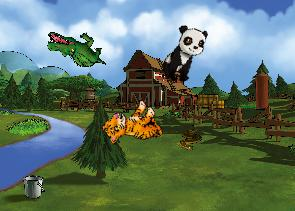crocodile: (46, 31, 106, 67)
panda: (158, 21, 210, 88)
tiger: (98, 93, 168, 160)
